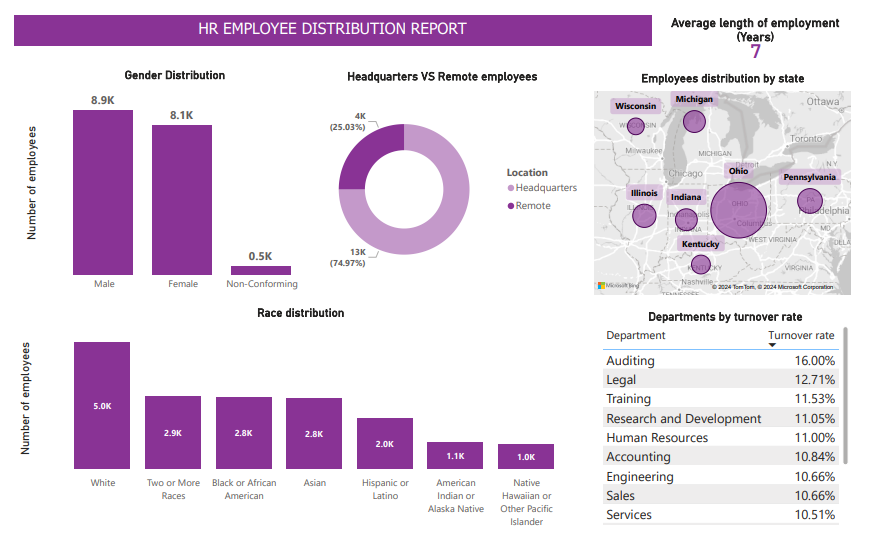

Layout of this report page (visuals, bound fields, positions):
{"tool":"powerbi","page":{"name":"Page 1","canvas":[1313,826],"ordinal":0},"visuals":[{"type":"textbox","box":[0,0,991,48],"z":0},{"type":"card","title":"Average length of employment (Years) ","fields":{"Values":["Sum(average_length_of_employement.AVERAGE_LENGHT_OF_EMPLOYEMENT)"]},"box":[992.3,0,320.7,70],"z":1000},{"type":"columnChart","title":"Gender Distribution","fields":{"Y":["Sum(gender.number_of_emp)"],"Category":["gender.gender"]},"box":[11.8,82.3,476.8,355.9],"z":2000},{"type":"donutChart","title":"Headquarters VS Remote employees","fields":{"Y":["Sum(location.number_of_emp)"],"Category":["location.location"]},"box":[441.5,83.9,448.3,352.6],"z":3000},{"type":"map","title":"Employees distribution by state","fields":{"Size":["Sum(location_state.number_of_emp)"],"Category":["location_state.location_state"]},"box":[898.2,87.3,408,352.6],"z":4000},{"type":"clusteredColumnChart","title":"Race distribution","fields":{"Category":["race.race"],"Y":["Sum(race.number_of_emp)"]},"box":[1.7,451.7,888.3,353.3],"z":5000},{"type":"tableEx","title":"Departments by turnover rate","fields":{"Values":["turnover_rate.department","Sum(turnover_rate.termination_rate)"]},"box":[910,458.3,391.7,340],"z":6000}]}

Visuals, with their boxes in screenshot pixels (x1, y1, x2, y2), scaled from the page's 1313x826 canvas onto the 872x560 screenshot:
textbox: (0,0,658,33)
"Average length of employment (Years) " card: (659,0,871,47)
"Gender Distribution" columnChart: (8,56,324,297)
"Headquarters VS Remote employees" donutChart: (293,57,591,296)
"Employees distribution by state" map: (597,59,867,298)
"Race distribution" clusteredColumnChart: (1,306,591,546)
"Departments by turnover rate" tableEx: (604,311,864,541)
